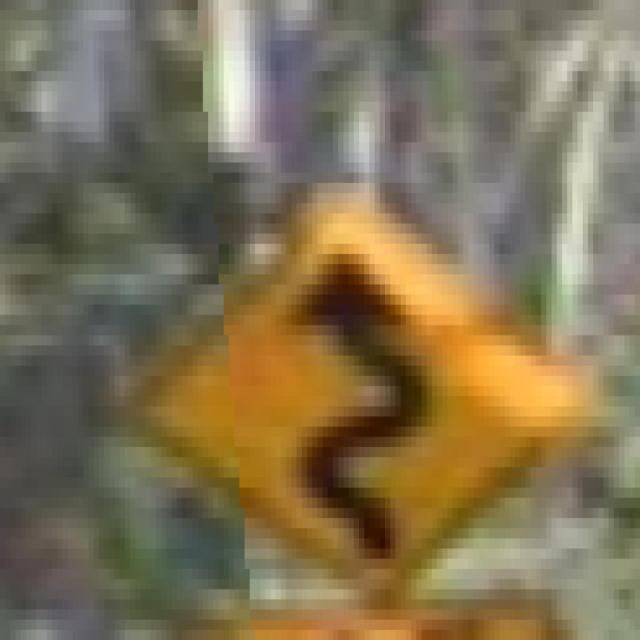Banyak Tikungan Pertama Kiri: (109, 142, 593, 610)
